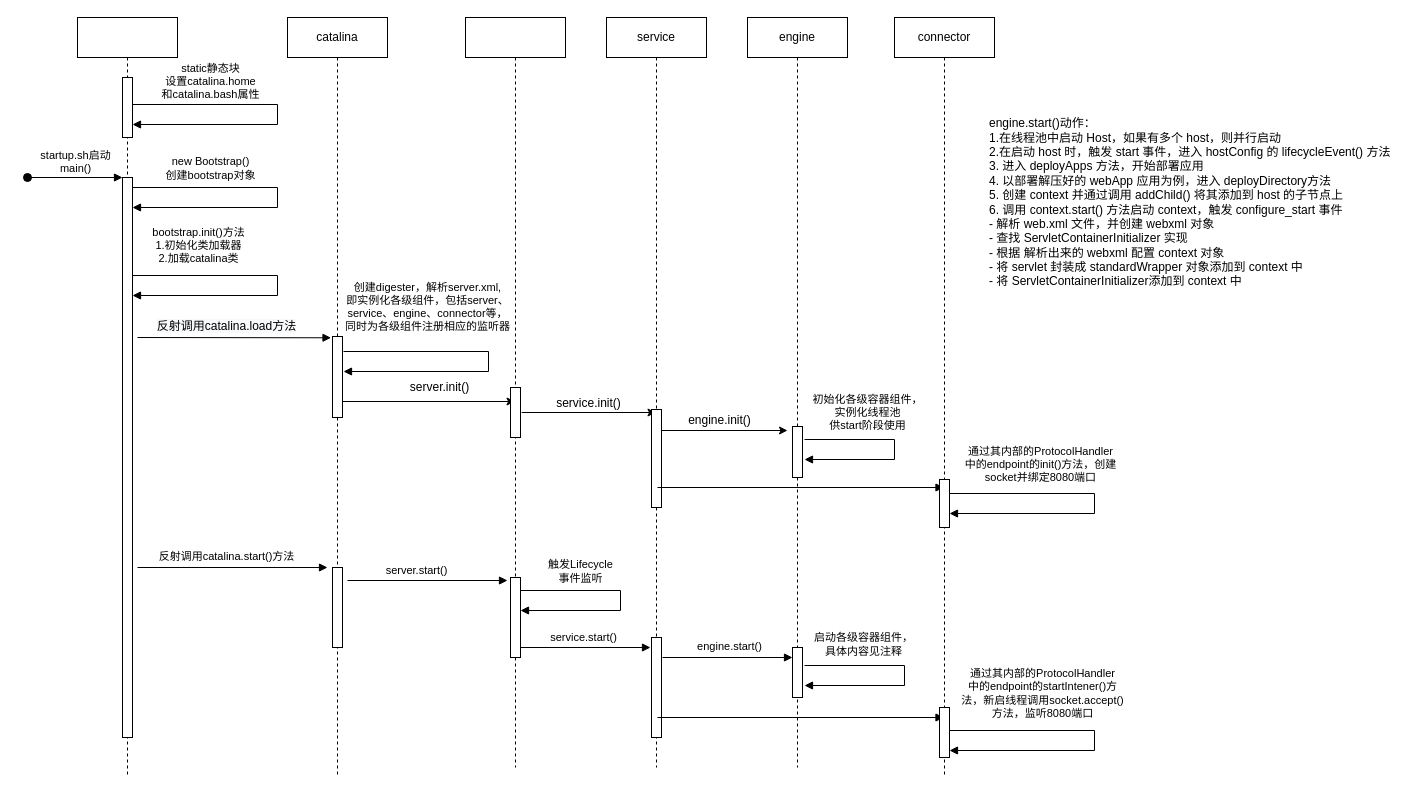
Some shapes in this 1425 by 795 pixel diagram are drawn without their labels. Each missing label, with the box of its shape:
Bootstrap: (76, 16, 178, 778)
server: (464, 16, 566, 768)
